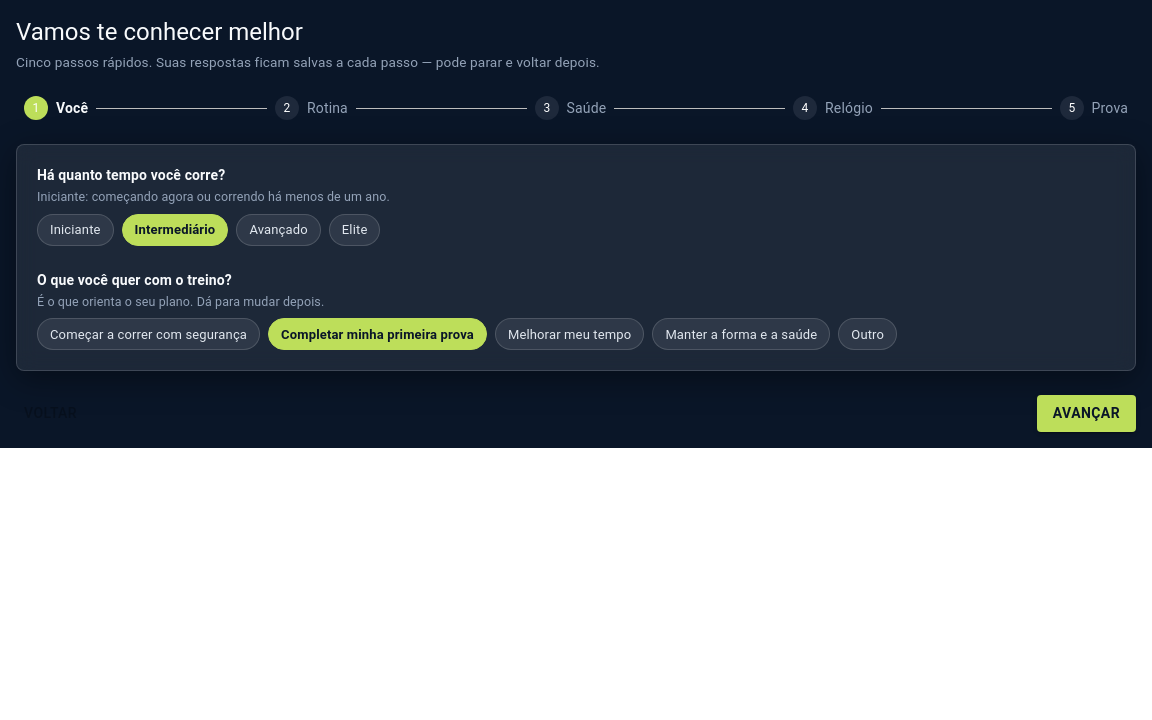
Scenario: AthleteOnboardingPage › Voltar também salva o rascunho
Click the button "Avançar".
click(1086, 414)  # box [1037,395,1136,432]
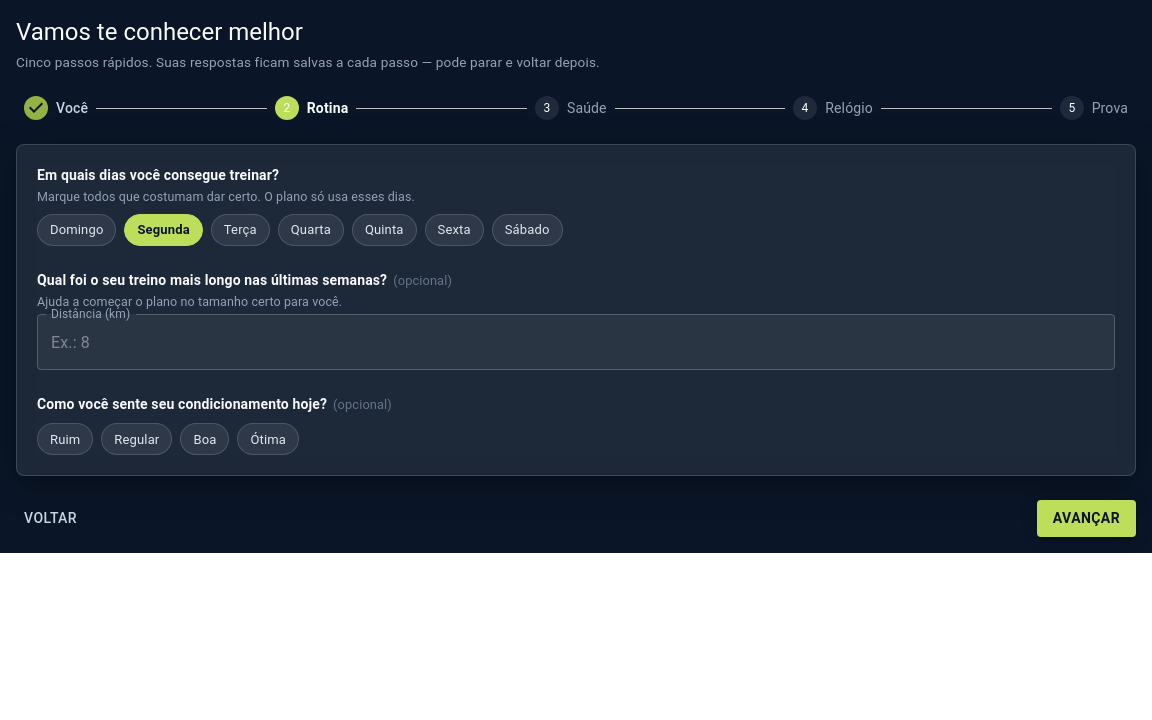
Click the button "Voltar".
click(50, 519)  # box [16,500,85,537]
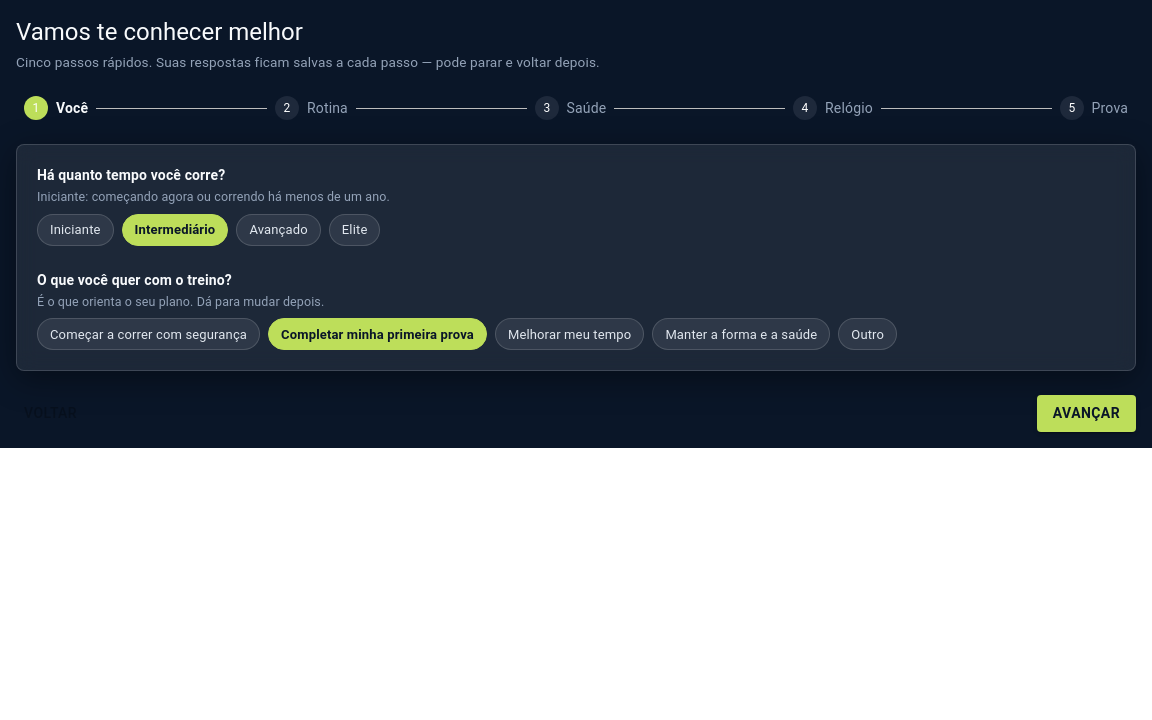
Expected: the text "Há quanto tempo você corre?" is shown, [37,167,225,183]
